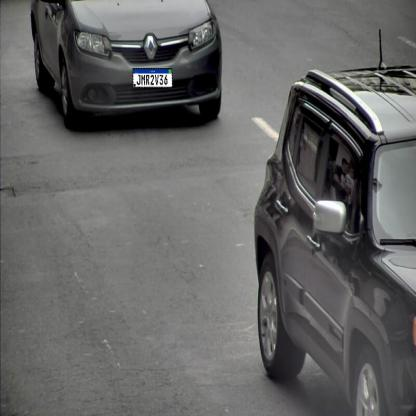PlacaM: (132, 68, 172, 88)
